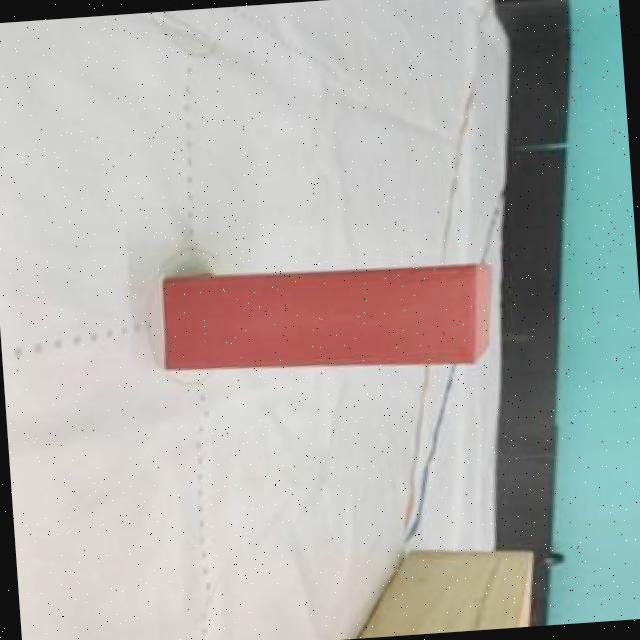redbox: (156, 254, 505, 384)
